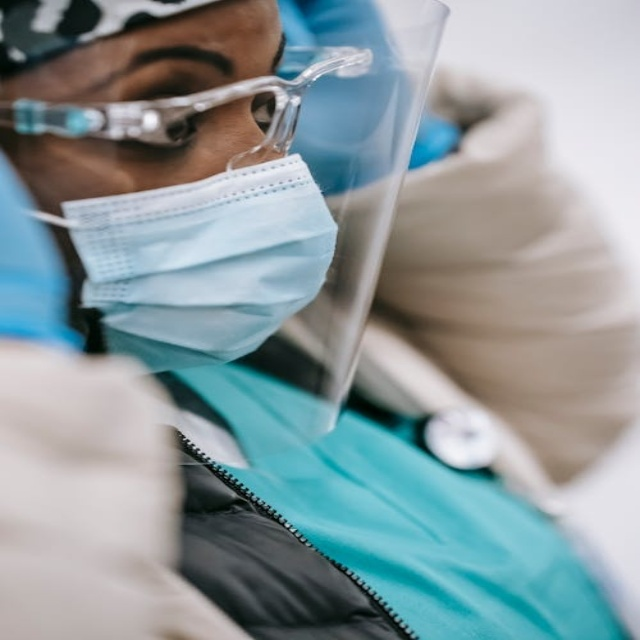Gafas: (0, 45, 375, 158)
Mascara: (22, 148, 360, 381)
